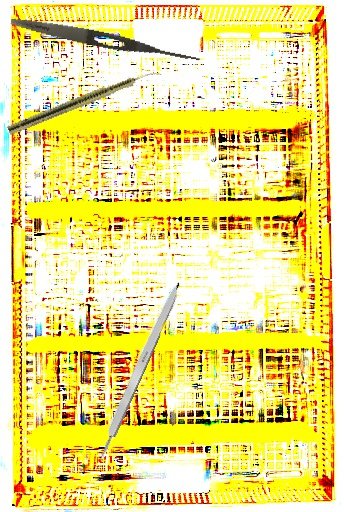Dressing Forceps: (9, 13, 203, 67)
Handpiece: (6, 64, 163, 138)
Scalpel Handle: (92, 279, 184, 462)
